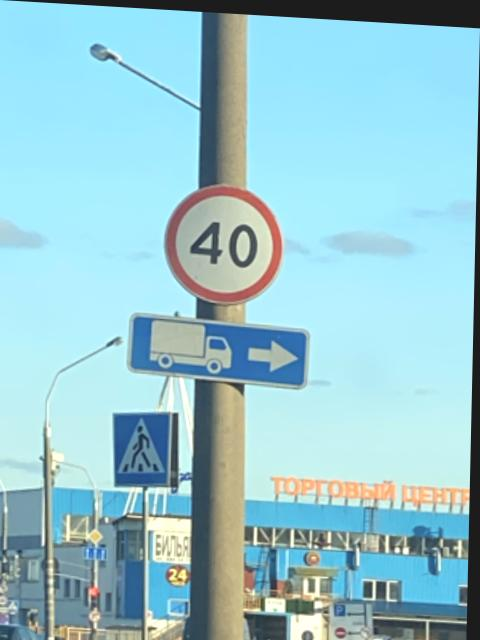limit40: (161, 176, 291, 306)
